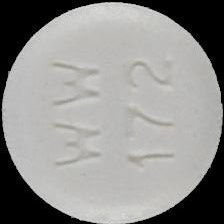50436-6106: (0, 0, 224, 224)
